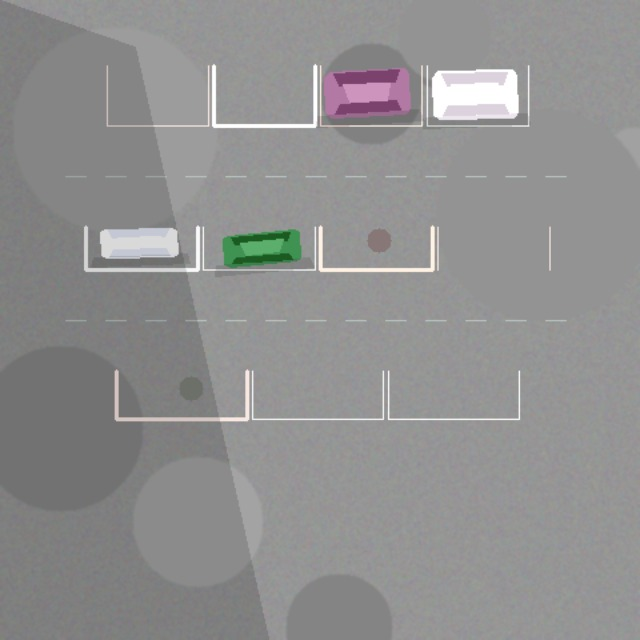space-empty: (116, 371, 247, 419), (252, 371, 383, 419), (388, 371, 519, 419), (213, 65, 315, 125), (107, 65, 208, 125), (320, 227, 432, 269), (437, 227, 549, 269)
space-occupied: (320, 65, 421, 125), (427, 65, 528, 125), (85, 227, 197, 269), (203, 227, 315, 269)
